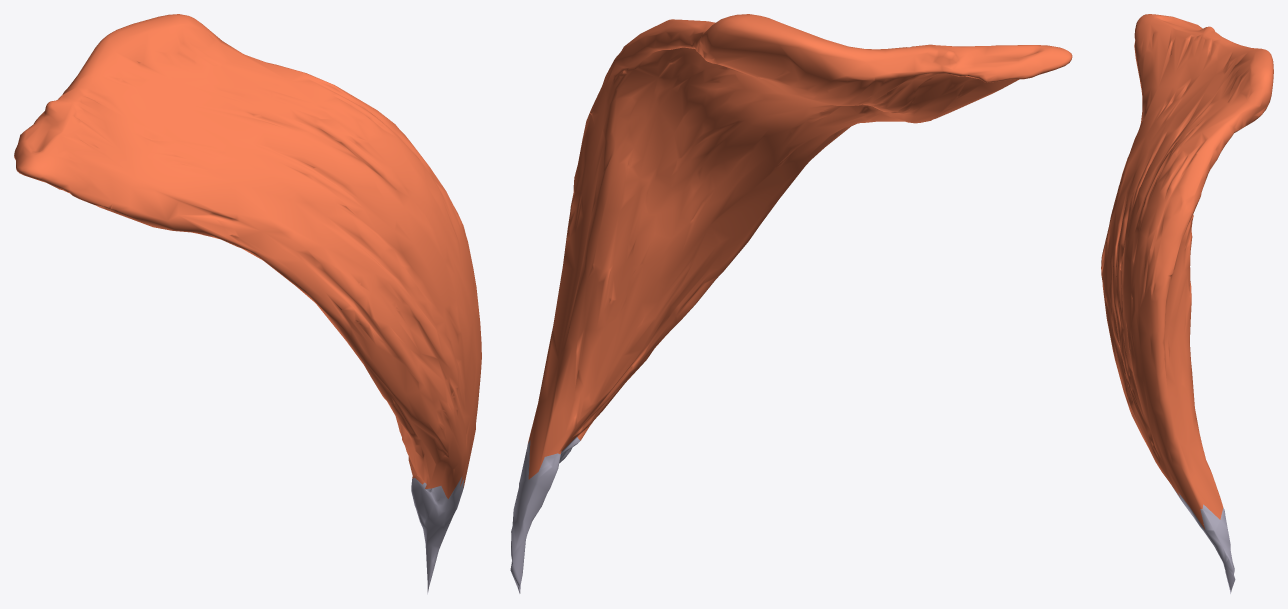
The model's file is Clavicular_part_of_deltoid_muscle.l_Generated_Mesh_From_X3D.996.glb.
The picture shows the model from 3 angles, left to right: view 1: azimuth 30°, elevation 25°; view 2: azimuth 150°, elevation 25°; view 3: azimuth 270°, elevation 25°; orthographic projection. The views are drawn at different scales.
Visible parts, largest first — view 1: Clavicular_part_of_deltoid_muscle.l_Generated_Mesh_From_X3D.; view 2: Clavicular_part_of_deltoid_muscle.l_Generated_Mesh_From_X3D.; view 3: Clavicular_part_of_deltoid_muscle.l_Generated_Mesh_From_X3D..
Boxes of the visible parts, left/top/right/bottom form: Clavicular_part_of_deltoid_muscle.l_Generated_Mesh_From_X3D.: left=14, top=14, right=481, bottom=594; Clavicular_part_of_deltoid_muscle.l_Generated_Mesh_From_X3D.: left=510, top=14, right=1072, bottom=593; Clavicular_part_of_deltoid_muscle.l_Generated_Mesh_From_X3D.: left=1101, top=14, right=1273, bottom=593.
Size of the model in its own units: 0.126 by 0.1563 by 0.0549.
